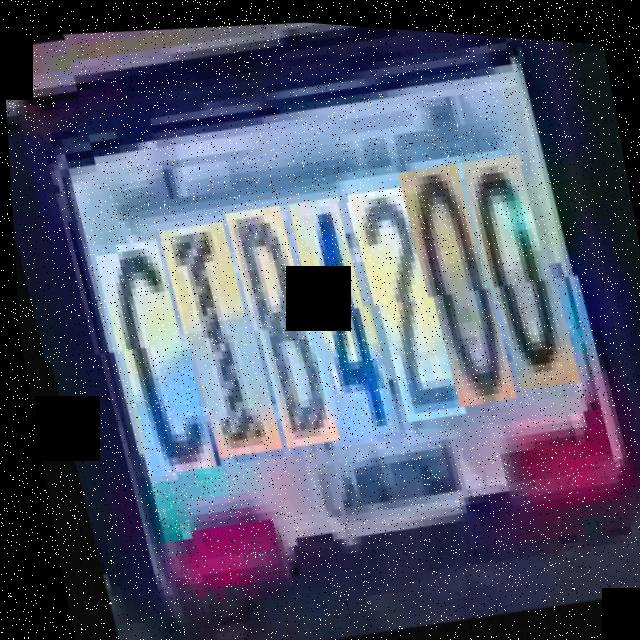2: (347, 183, 458, 429)
4: (287, 192, 391, 444)
B: (223, 201, 332, 453)
C: (90, 234, 206, 480)
I: (156, 217, 273, 464)
O: (397, 160, 510, 413), (461, 152, 572, 397)
